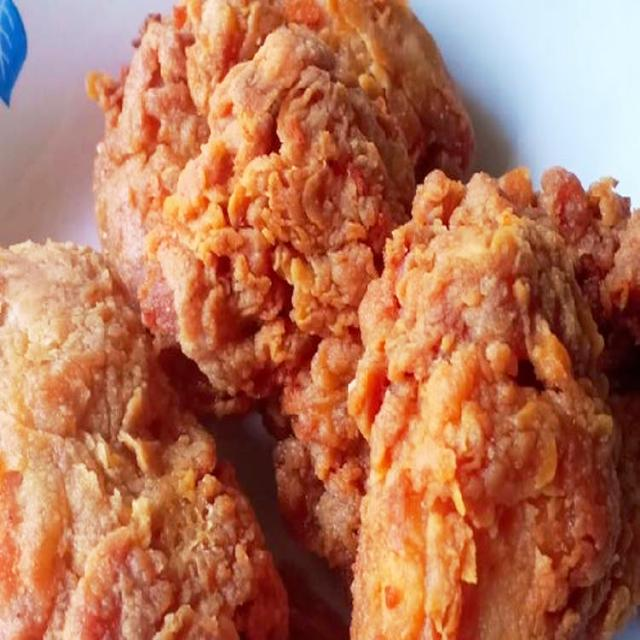fried_chicken: (83, 0, 572, 575), (350, 175, 639, 640), (2, 242, 284, 640)
